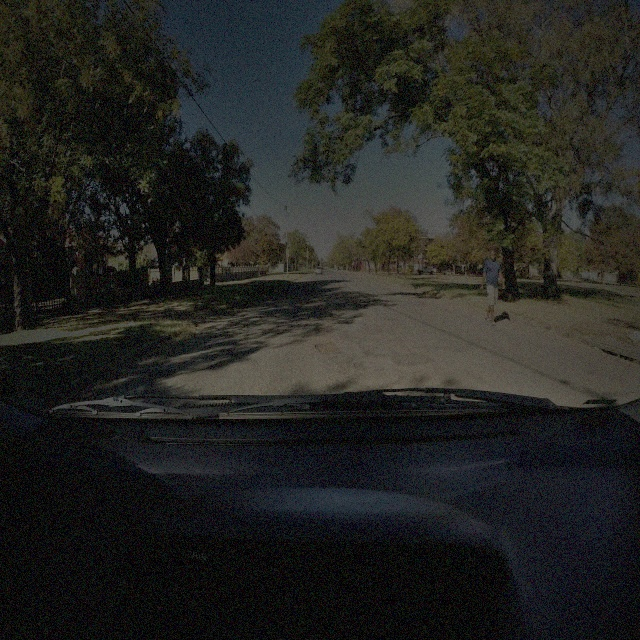pothole: (314, 338, 340, 356)
